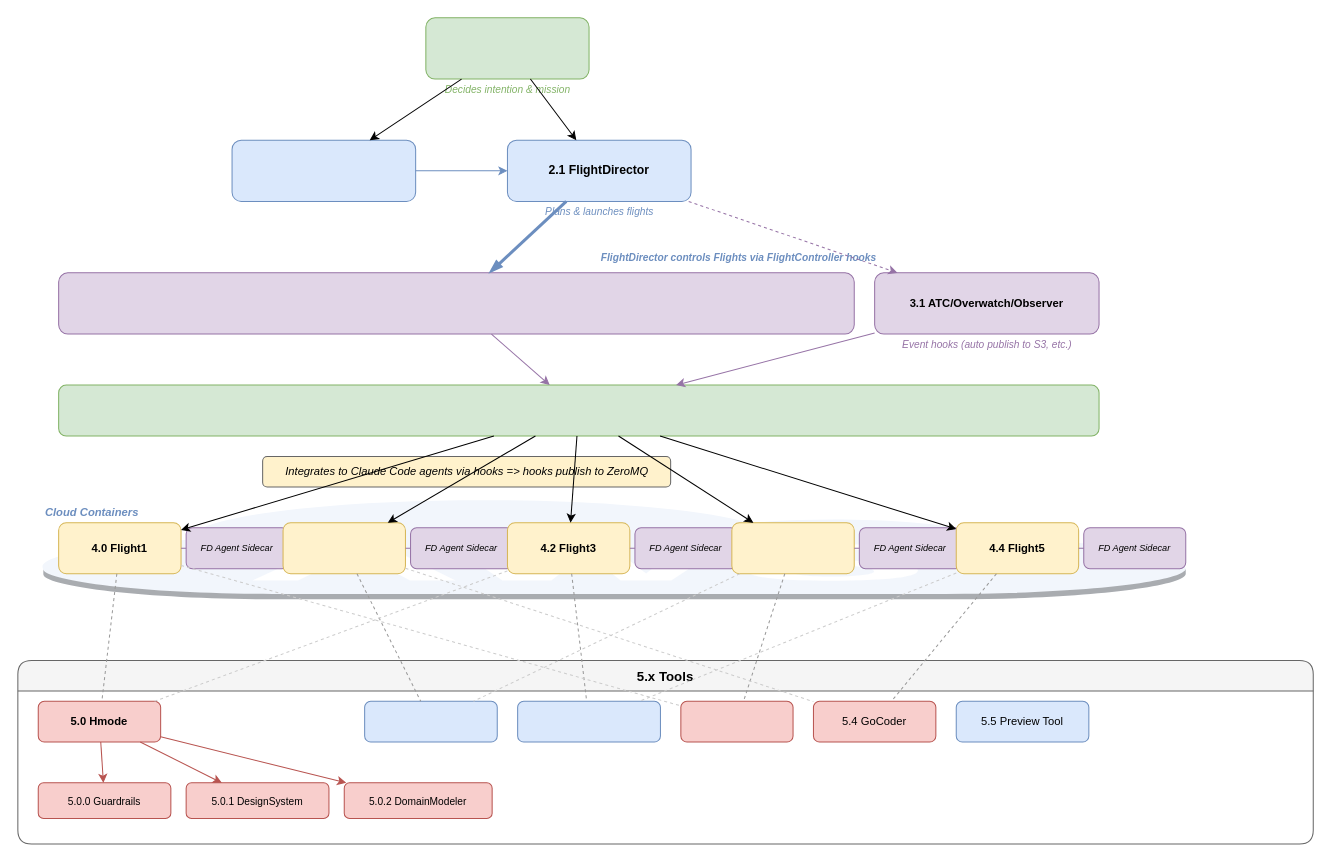
Image size: 1331x862. Some labels were removed from this diagram. The box of each missing label's shape, as (x1, y1, x2, y2) in pixels:
1.0 Centcom: (425, 17, 589, 79)
2.0 FlightPlanRegistry: (231, 139, 416, 201)
3.0 FlightController: (58, 272, 854, 334)
3.2 ZeroMQ Pub/Sub Bus: (58, 384, 1099, 436)
4.1 Flight2: (282, 522, 405, 574)
4.3 Flight4: (731, 522, 854, 574)
5.1 SpecReview: (364, 700, 497, 742)
5.2 AnnotationTool: (517, 700, 660, 742)
5.3 Yolo: (680, 700, 793, 742)
